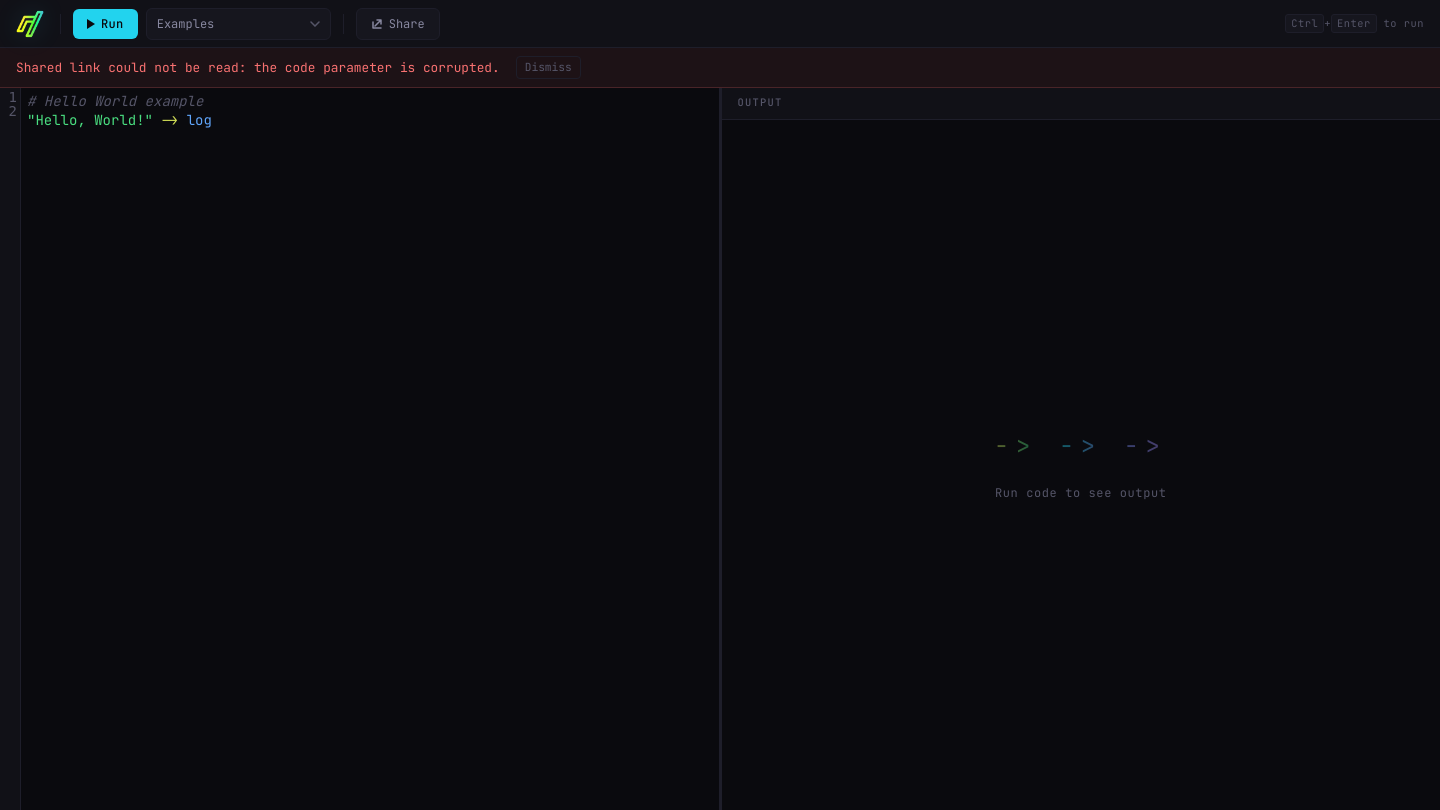
Scenario: App › decode notice › shows a dismissible notice when the shared code is corrupt
Expected: the message "Shared link could not be read: the code parameter is corrupted. Dismiss" is shown, 0,48 -> 1439,88
What coordinates should you click on to do the following:
click the button with class "decode-notice-dismiss"
I would click on:
 (548, 67)
Its box is 516,56 -> 581,79.
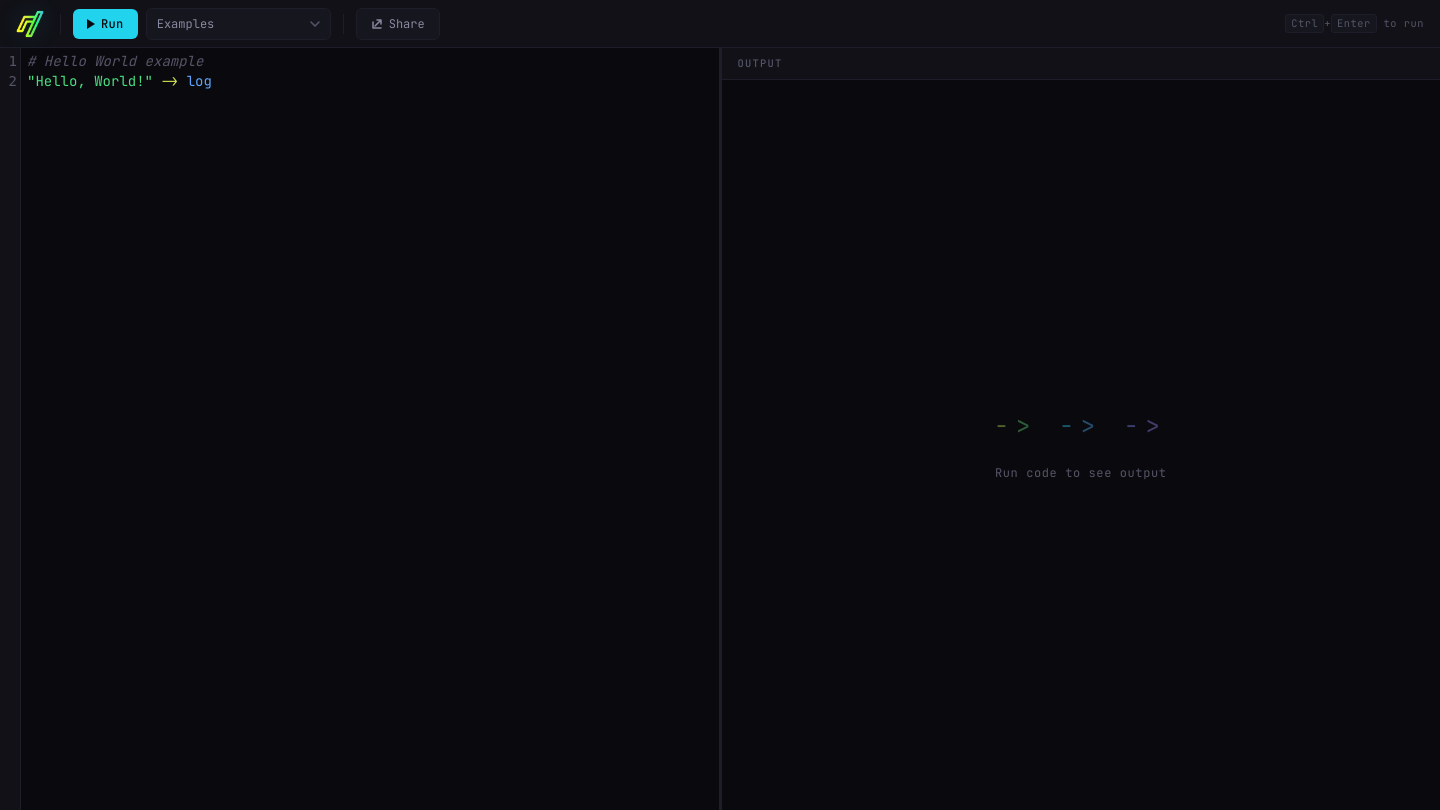
Expected: the message with class "decode-notice" is gone
